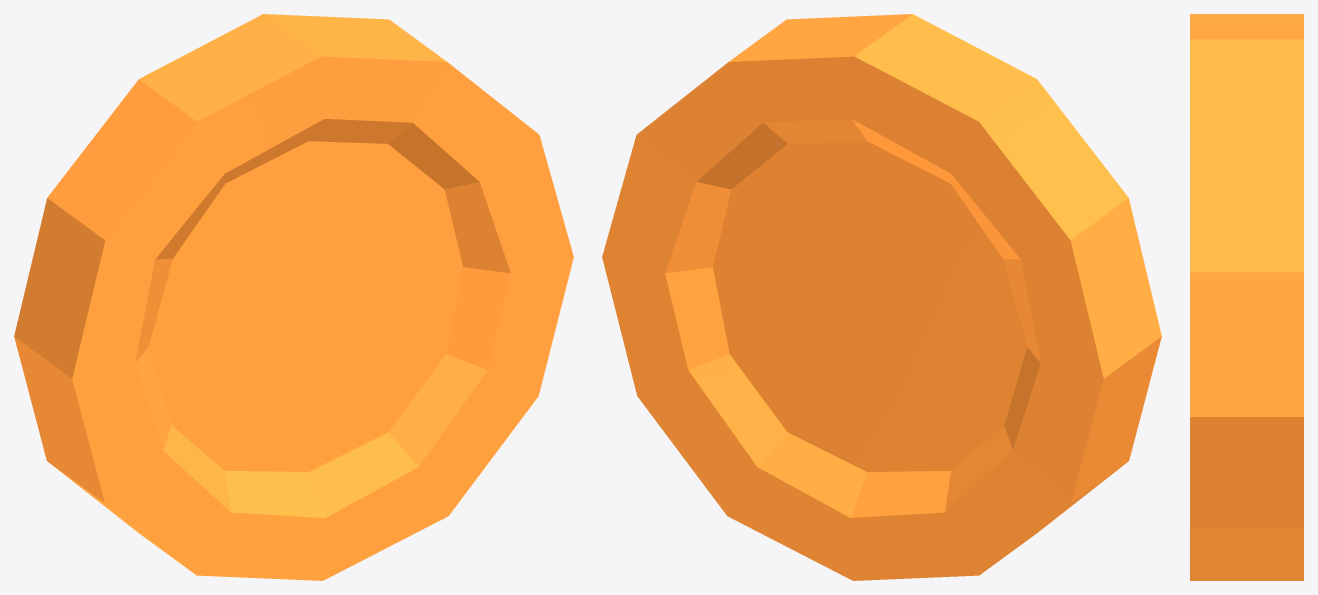
Rendered from coin.glb.
The picture shows the model from 3 angles, left to right: view 1: azimuth 30°, elevation 25°; view 2: azimuth 150°, elevation 25°; view 3: azimuth 270°, elevation 25°; orthographic projection. The views are drawn at different scales.
Visible parts, largest first — view 1: SM_Icon_Coin_01; view 2: SM_Icon_Coin_01; view 3: SM_Icon_Coin_01.
Boxes of the visible parts, x1,y1,x2,y2 form: SM_Icon_Coin_01: [14, 14, 573, 580]; SM_Icon_Coin_01: [602, 14, 1161, 580]; SM_Icon_Coin_01: [1190, 14, 1303, 580].
Bounding box in the file's own units: 0.3984 × 0.3982 × 0.08.
1 material, 1 textured.
